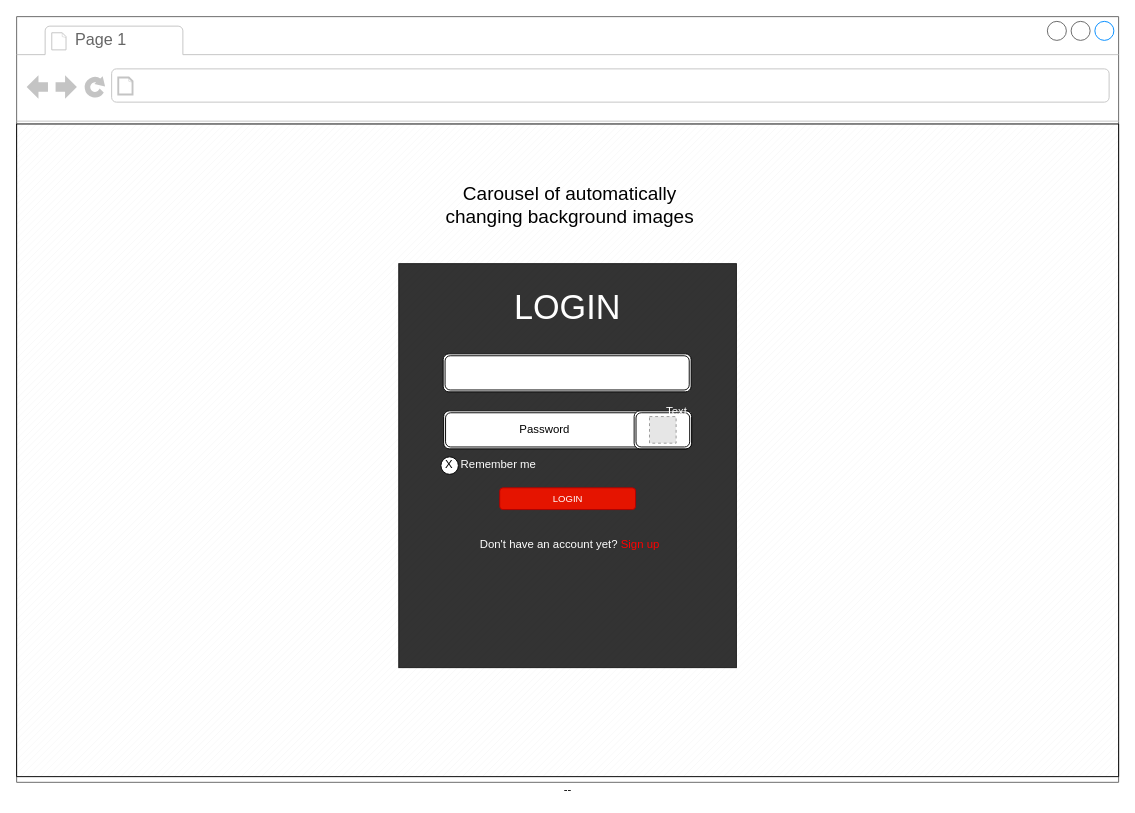
This 1135x813 diagram has some shape labels left out. Grey dashed boxes stand in for pictures. Each missing label, with the box of its shape:
Email: (442, 353, 691, 392)
https://www.draw.io: (139, 73, 378, 98)
